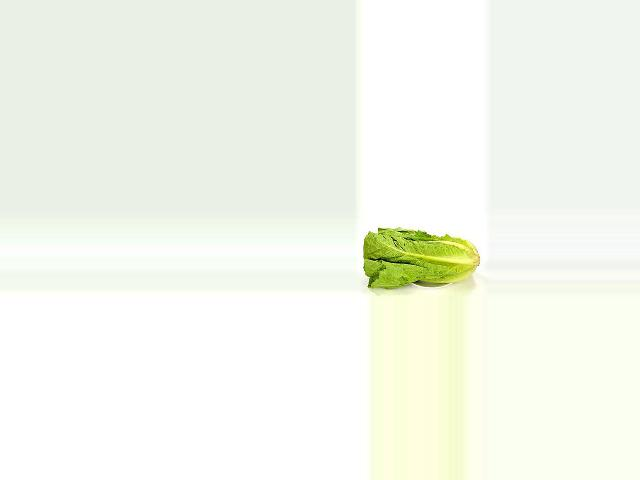lettuce: (363, 225, 481, 290)
